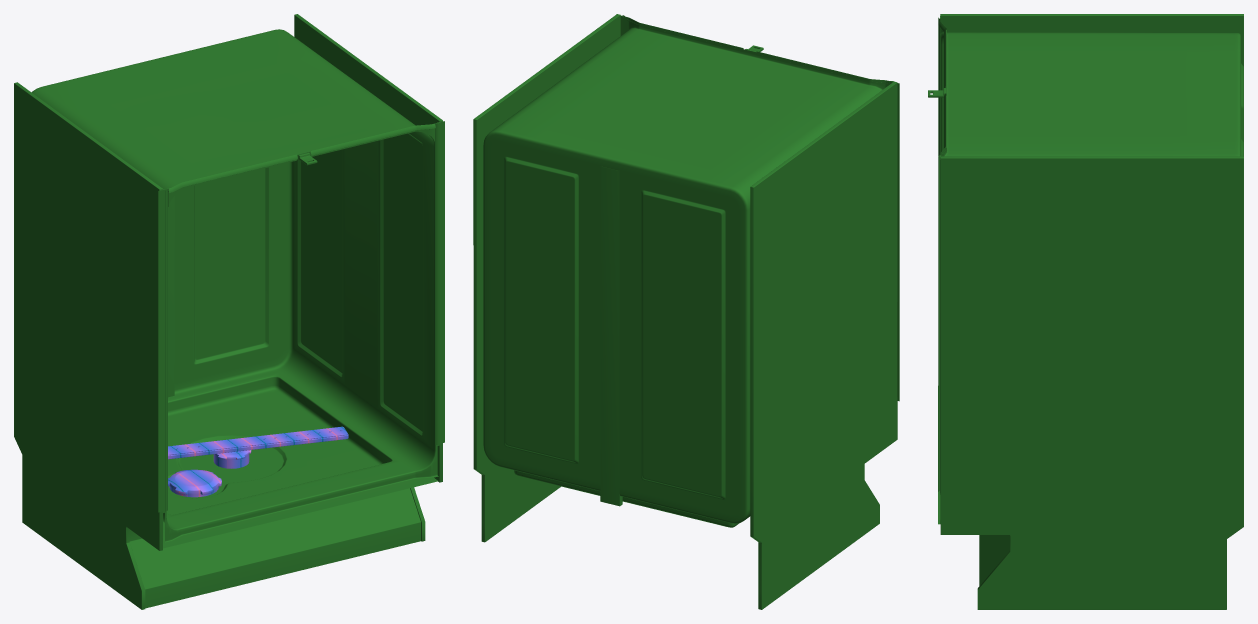
The model's file is SM_Dishwasher_Base.fbx.
The picture shows the model from 3 angles, left to right: view 1: azimuth 30°, elevation 25°; view 2: azimuth 150°, elevation 25°; view 3: azimuth 270°, elevation 25°; orthographic projection. The views are drawn at different scales.
Visible parts, largest first — view 1: SM_Dishwasher_Base; view 2: SM_Dishwasher_Base; view 3: SM_Dishwasher_Base.
Part boxes in pixels (x1=…): SM_Dishwasher_Base: x1=14, y1=14, x2=444, y2=609; SM_Dishwasher_Base: x1=473, y1=14, x2=899, y2=609; SM_Dishwasher_Base: x1=928, y1=14, x2=1243, y2=609.
Bounding box in the file's own units: 58.4 × 84.39 × 53.47.
Materials: 2 (1 with a texture image).
